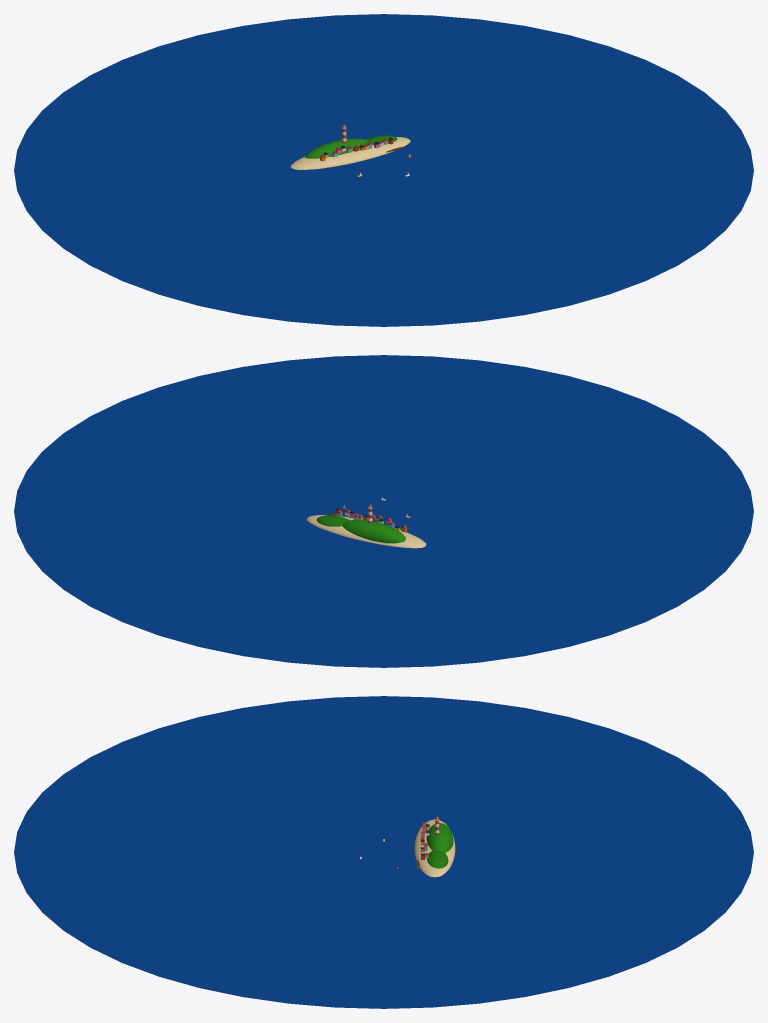
The model's file is farol7_backdrop.glb.
3 renders of one model, top to bottom at view 1: azimuth 30°, elevation 25°; view 2: azimuth 150°, elevation 25°; view 3: azimuth 270°, elevation 25°, orthographic.
Parts seen in each view (by area): view 1: Farol7_Backdrop; view 2: Farol7_Backdrop; view 3: Farol7_Backdrop.
Part boxes in pixels (left/top/right/bottom): Farol7_Backdrop: left=14, top=14, right=753, bottom=326; Farol7_Backdrop: left=14, top=355, right=753, bottom=667; Farol7_Backdrop: left=14, top=696, right=753, bottom=1008.
Bounding box in the file's own units: 320 × 18.3 × 320.
